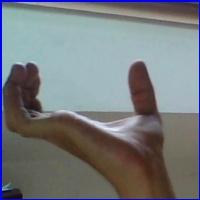B: (6, 52, 170, 181)
